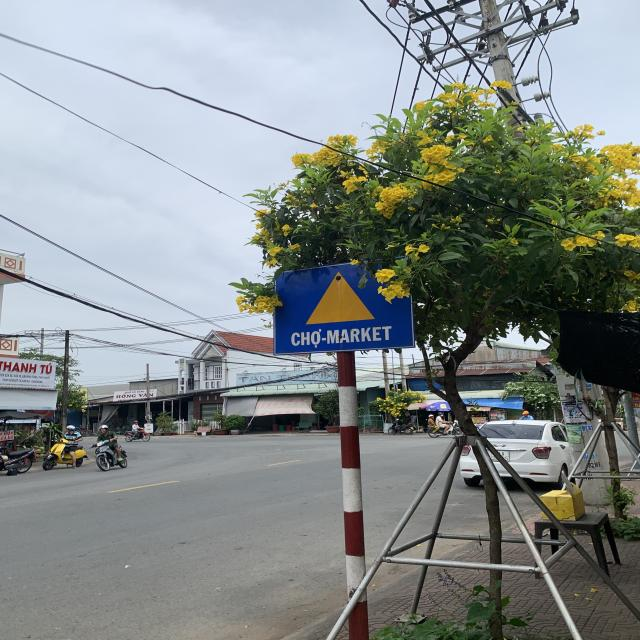Cho_Quay_Xe: (274, 262, 412, 354)
